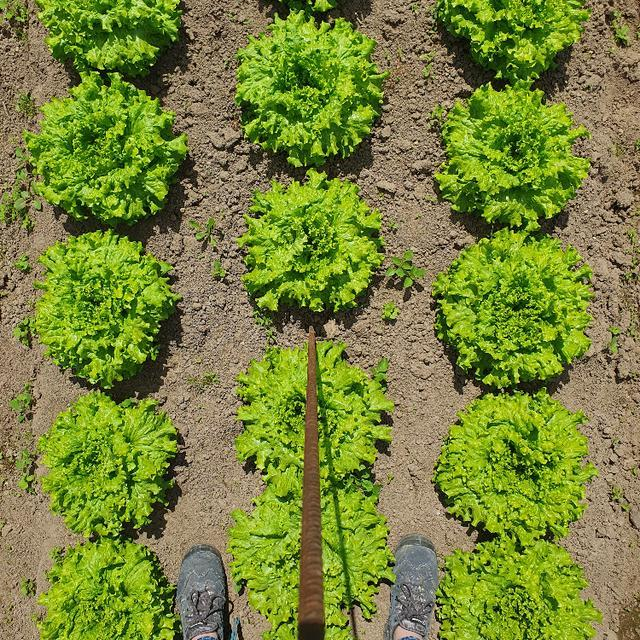Lettuce: (225, 477, 400, 630), (232, 7, 392, 170), (433, 225, 592, 388), (235, 334, 393, 498), (25, 73, 192, 222), (432, 75, 590, 232), (433, 392, 592, 548), (32, 228, 178, 390), (238, 167, 388, 318), (40, 392, 187, 538), (431, 531, 601, 640), (38, 535, 177, 640), (438, 0, 588, 78), (33, 0, 184, 73)
